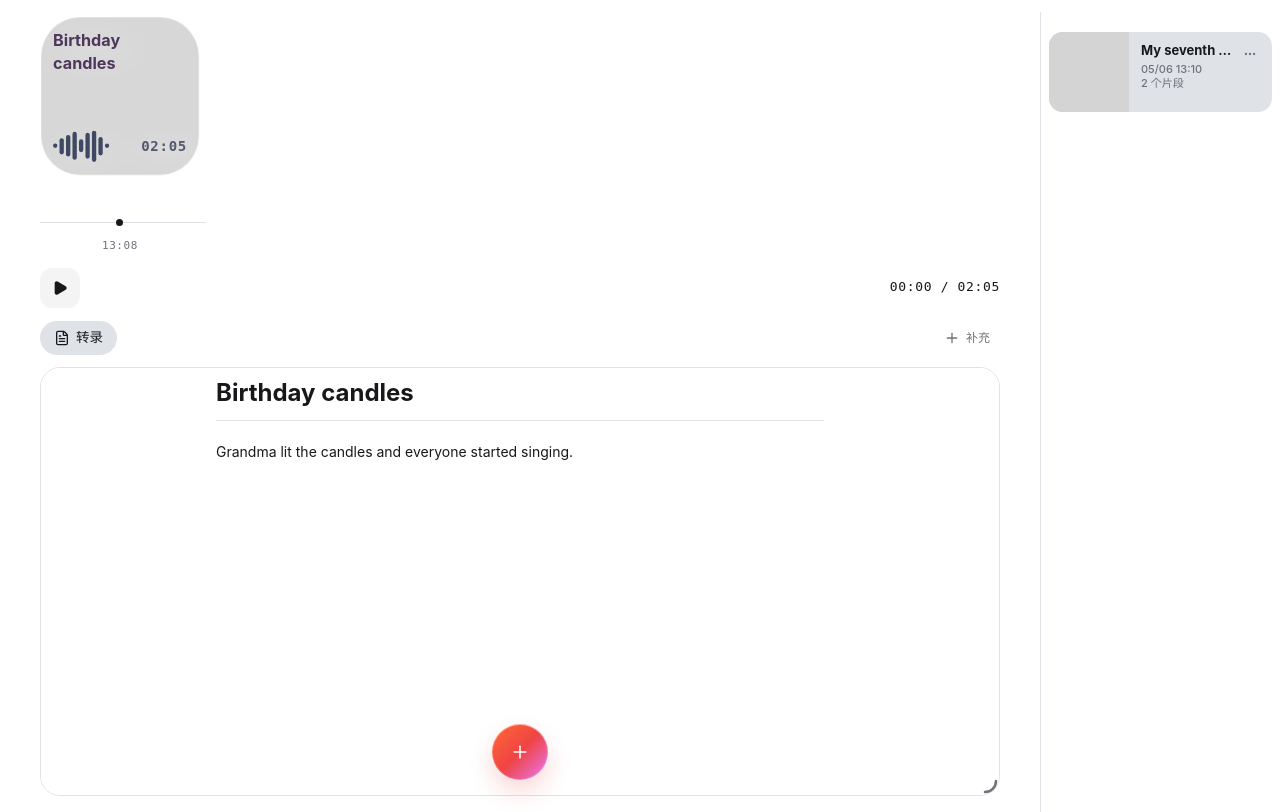
Test: LoadedWorkspaceFrame › plays finalized audio and shows transcript content for the selected Segment
The image size is (1280, 812).
Check: the text box "Grandma lit the candles and everyone started singing." is shown, box [216,443,573,460]
Check: the text "00:00 / 02:05" is shown, box [890,277,1000,298]
Click the button named "播放片段 Birthday candles" at (60, 288), box [40,268,80,308]
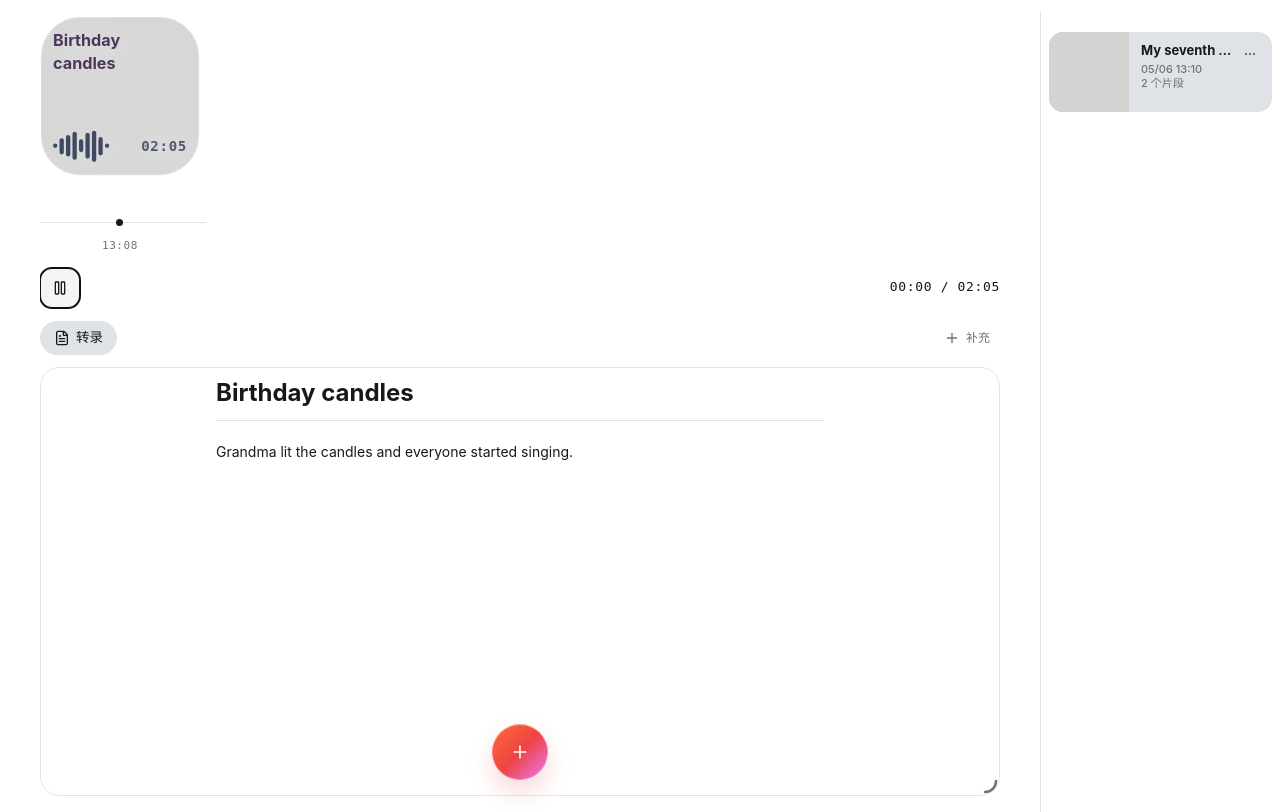
Check: the button named "暂停片段 Birthday candles" is shown, box [40,268,80,308]
